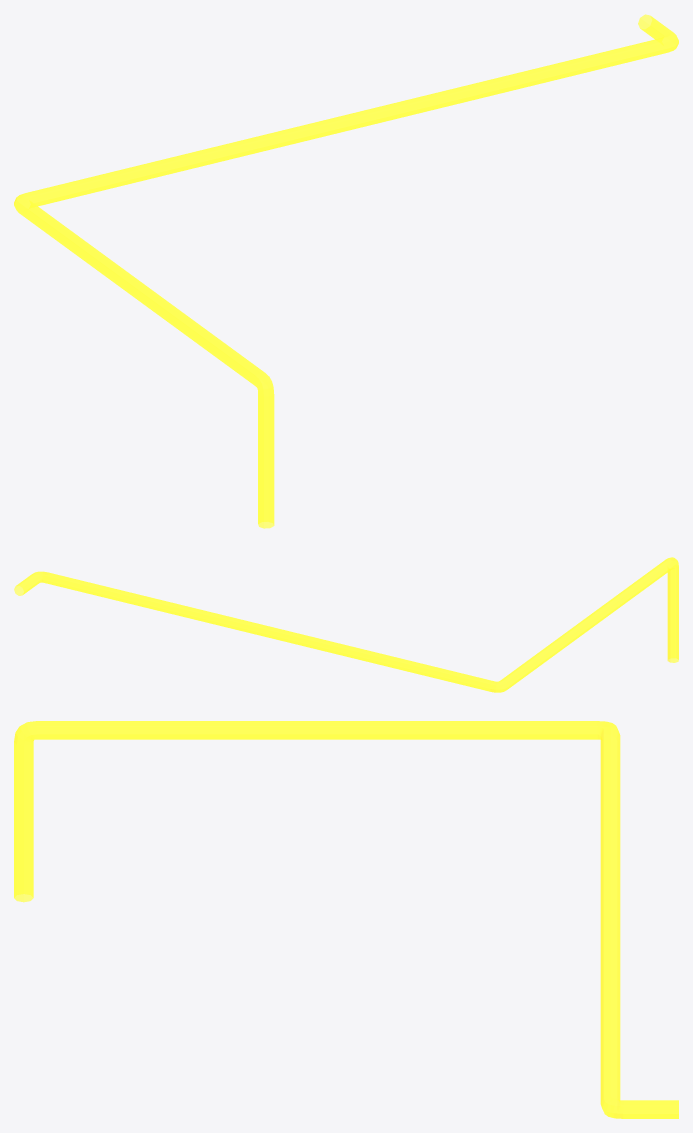
Rendered from yellowTube.fbx.
3 renders of one model, top to bottom at view 1: azimuth 30°, elevation 25°; view 2: azimuth 150°, elevation 25°; view 3: azimuth 270°, elevation 25°, orthographic. The views are drawn at different scales.
Parts seen in each view (by area): view 1: yellowTube; view 2: yellowTube; view 3: yellowTube.
Boxes of the visible parts, <box> form: yellowTube: <box>14,14,678,528</box>; yellowTube: <box>14,557,678,692</box>; yellowTube: <box>14,721,678,1118</box>.
Bounding box in the file's own units: 9312 × 1980 × 6750.
